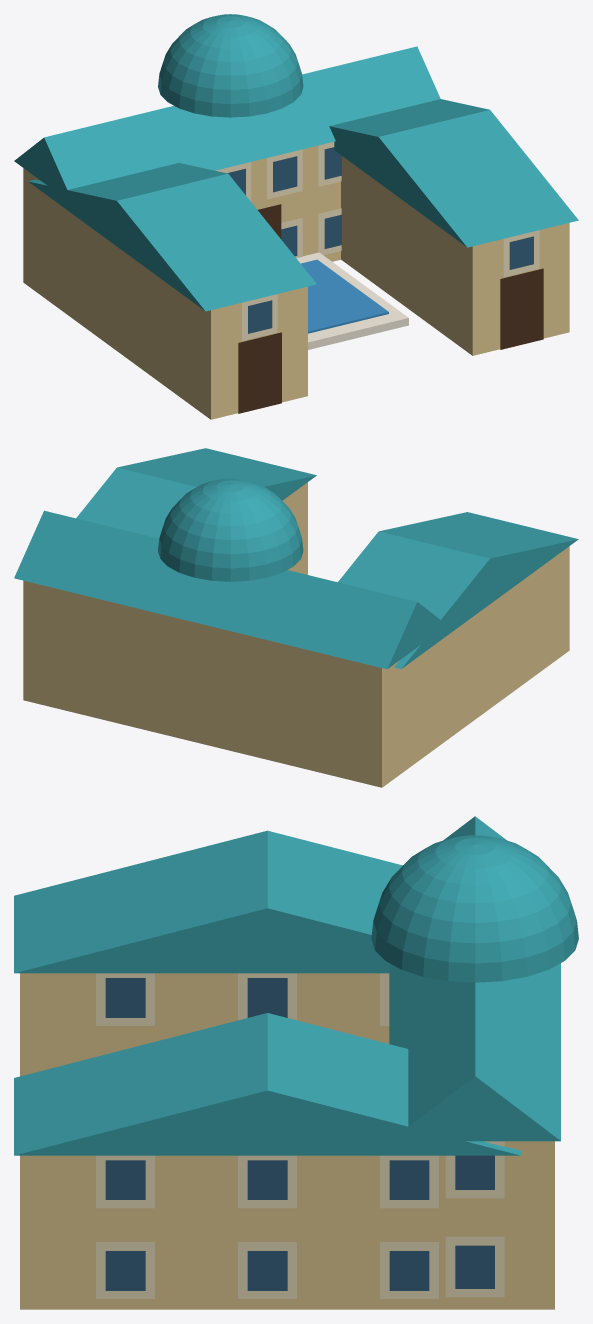
File: building_madrasa.fbx
The picture shows the model from 3 angles, top to bottom: view 1: azimuth 30°, elevation 25°; view 2: azimuth 150°, elevation 25°; view 3: azimuth 270°, elevation 25°; orthographic projection. The views are drawn at different scales.
Visible parts, largest first — view 1: building_madrasa; view 2: building_madrasa; view 3: building_madrasa.
Part boxes in pixels (left/top/right/bottom): building_madrasa: left=14, top=14, right=578, bottom=419; building_madrasa: left=14, top=448, right=578, bottom=787; building_madrasa: left=14, top=816, right=578, bottom=1309.
Size of the model in its own units: 77 by 47 by 70.75.
